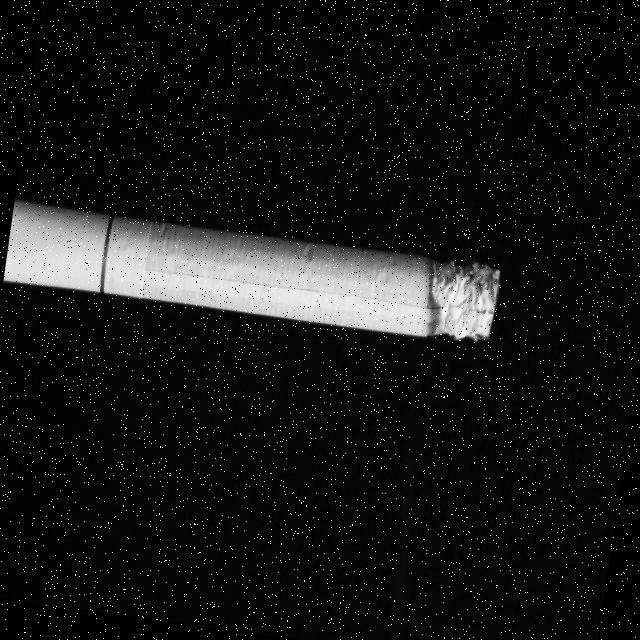cigarette: (2, 196, 504, 350)
